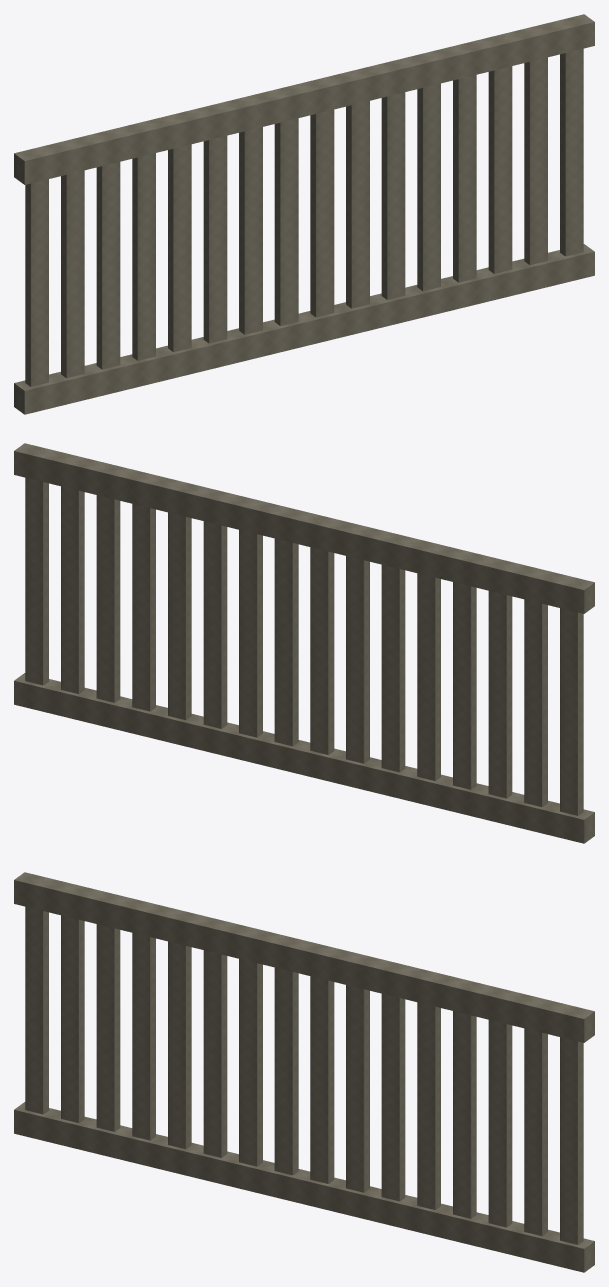
File: MRP_Railing_Vertical_2m.fbx
The picture shows the model from 3 angles, top to bottom: view 1: azimuth 30°, elevation 25°; view 2: azimuth 150°, elevation 25°; view 3: azimuth 330°, elevation 25°; orthographic projection.
Parts seen in each view (by area): view 1: Body; view 2: Body; view 3: Body.
Part boxes in pixels (x1,y1,x2,y2): Body: (14,14,594,414); Body: (14,443,594,843); Body: (14,872,594,1272).
Bounding box in the file's own units: 2 × 0.85 × 0.065.
